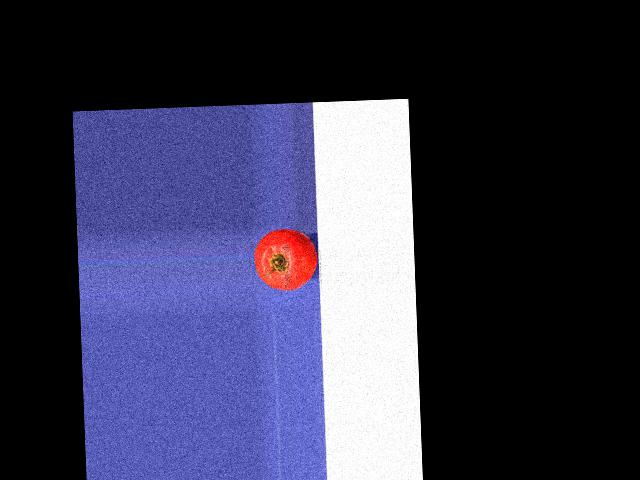tomato: (253, 227, 317, 291)
